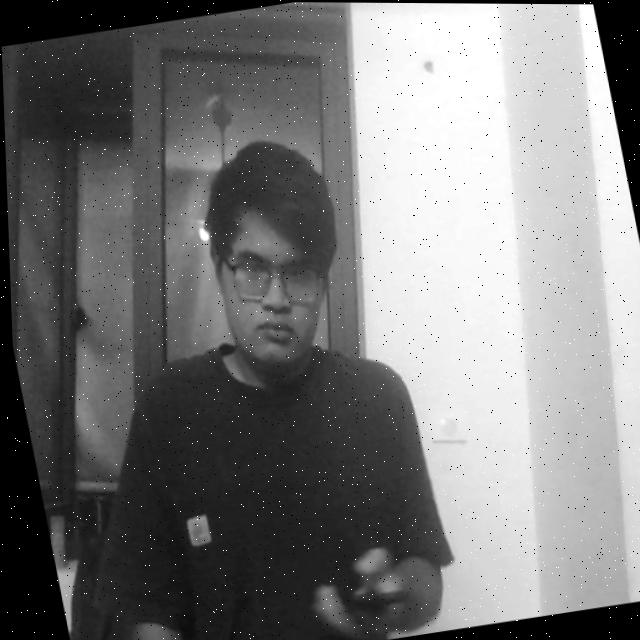phone: (302, 543, 422, 640)
